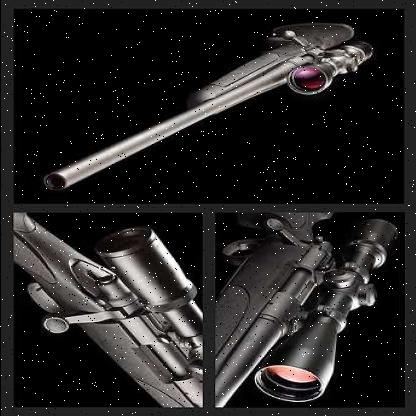rifle: (41, 19, 371, 196), (7, 211, 202, 408), (212, 211, 399, 408)
